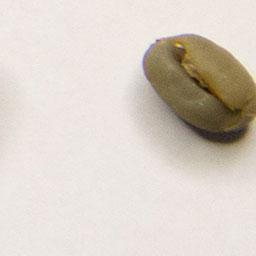peaberry: (138, 28, 256, 138)
